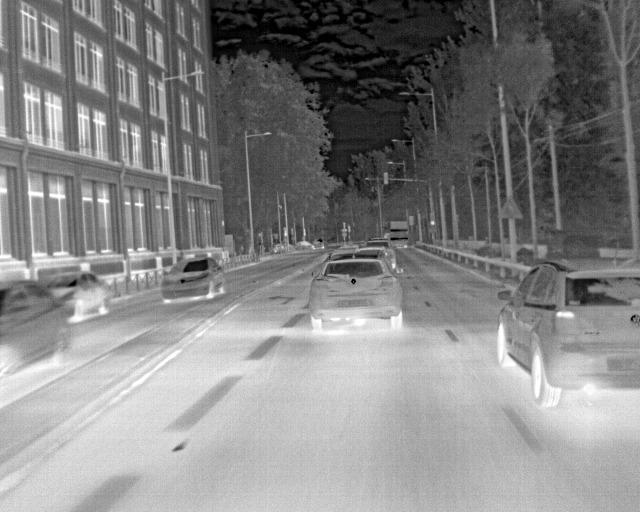car: (496, 258, 639, 407), (0, 279, 73, 381), (308, 257, 404, 330), (46, 270, 110, 322), (160, 257, 225, 304), (329, 247, 393, 270), (363, 240, 397, 269), (388, 221, 409, 248), (297, 241, 315, 251), (312, 239, 324, 249)
light: (429, 213, 435, 226), (384, 172, 388, 184), (343, 222, 345, 228)
sign: (497, 195, 524, 220), (409, 216, 414, 226), (342, 232, 347, 237), (341, 229, 348, 232)
